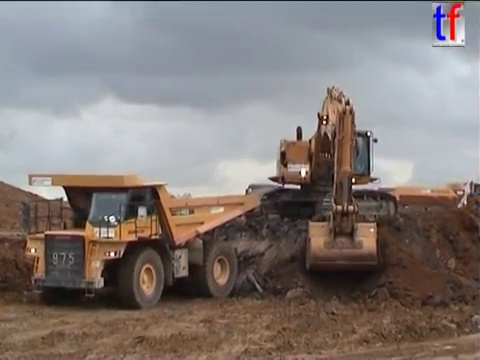excavator: (243, 83, 399, 272)
truck: (18, 171, 264, 310), (375, 178, 480, 224), (243, 182, 325, 222)
